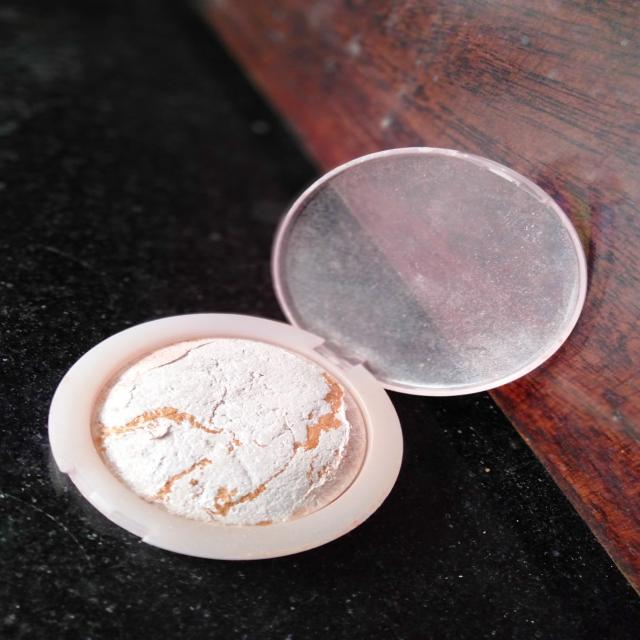powder: (43, 282, 400, 567)
